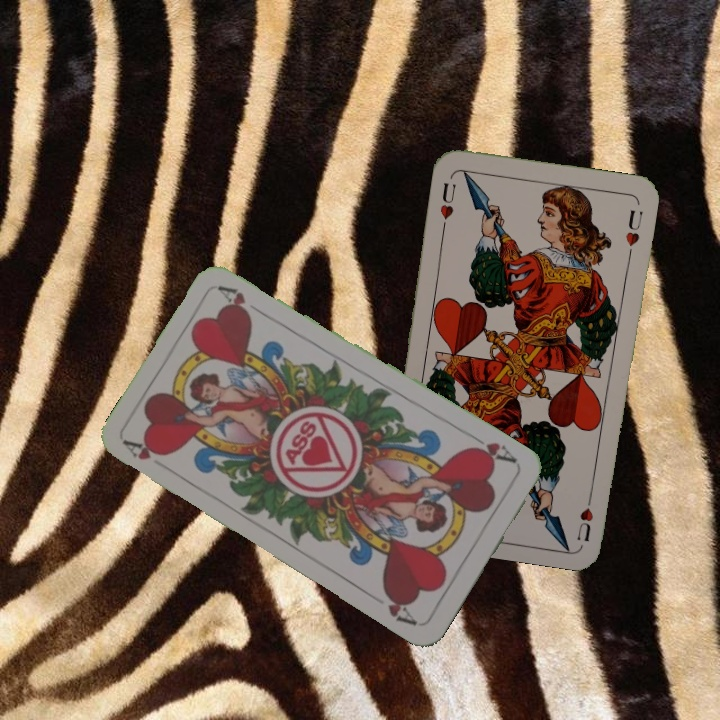HA: (464, 431, 520, 467), (120, 434, 171, 463)
HU: (573, 486, 596, 544), (436, 178, 459, 231)
